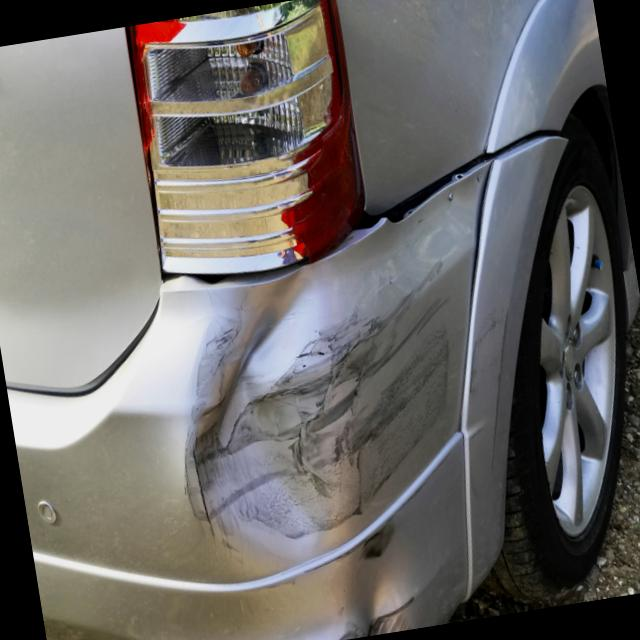Cabossage: (165, 294, 364, 599), (326, 573, 423, 640)
Dechirure: (358, 149, 500, 226)
Rayure: (155, 262, 512, 590)
